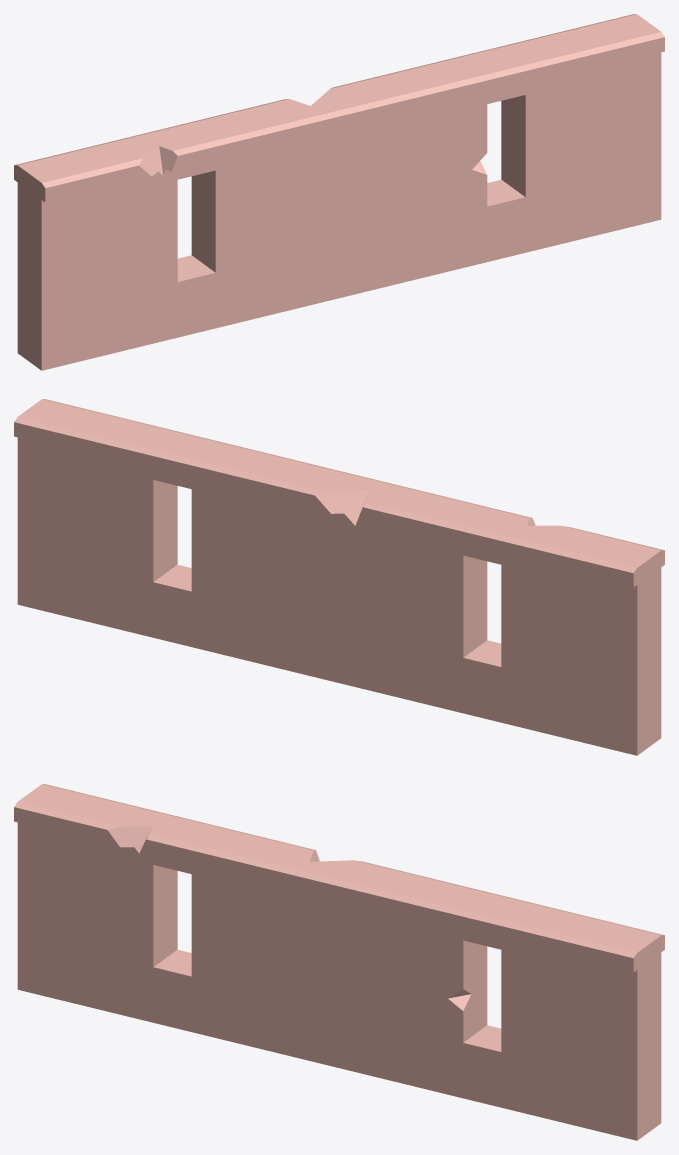
The model's file is Mega_Asset_s_Pack_Cube_205.FBX.
3 renders of one model, top to bottom at view 1: azimuth 30°, elevation 25°; view 2: azimuth 150°, elevation 25°; view 3: azimuth 330°, elevation 25°, orthographic.
Visible parts, largest first — view 1: Mega_Asset_s_Pack_Cube_205; view 2: Mega_Asset_s_Pack_Cube_205; view 3: Mega_Asset_s_Pack_Cube_205.
Boxes of the visible parts, left/top/right/bottom form: Mega_Asset_s_Pack_Cube_205: left=14, top=14, right=664, bottom=370; Mega_Asset_s_Pack_Cube_205: left=14, top=399, right=664, bottom=755; Mega_Asset_s_Pack_Cube_205: left=14, top=784, right=664, bottom=1140.
Size of what is drawn, in the model's own units: 565 by 49.69 by 164.
